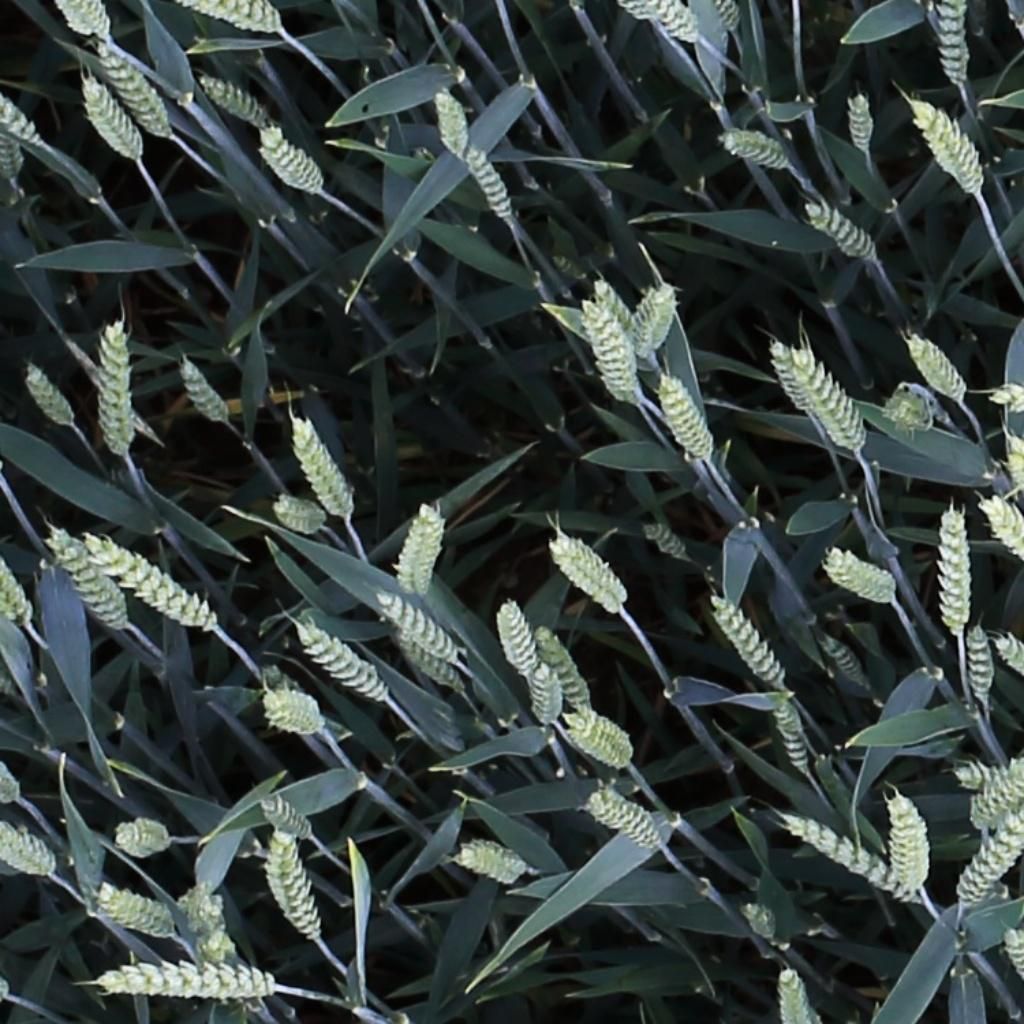0-0: (769, 806, 903, 895), (101, 525, 228, 618), (92, 950, 282, 1006), (90, 32, 178, 139), (45, 524, 131, 632), (708, 589, 793, 694), (259, 827, 328, 942), (296, 621, 390, 703), (288, 410, 356, 522), (549, 520, 629, 614), (803, 349, 870, 458), (910, 95, 985, 192), (869, 783, 931, 895), (580, 296, 640, 405), (77, 69, 146, 163), (92, 319, 139, 455), (535, 621, 598, 716), (378, 592, 462, 663), (929, 506, 978, 627), (967, 818, 1024, 922), (818, 542, 899, 612), (659, 368, 718, 464), (391, 498, 443, 600), (462, 137, 520, 223), (258, 121, 326, 193), (906, 330, 970, 404), (806, 199, 882, 260), (19, 357, 79, 431), (176, 352, 234, 428), (395, 636, 468, 696), (591, 791, 663, 851), (0, 484, 31, 623), (768, 334, 817, 419), (772, 689, 817, 780), (0, 800, 53, 877), (498, 595, 543, 685), (197, 70, 270, 125), (253, 679, 323, 734), (594, 270, 648, 341), (89, 885, 167, 934), (977, 491, 1024, 570), (100, 809, 174, 859), (0, 57, 42, 144), (444, 838, 527, 882), (566, 714, 633, 768), (971, 764, 1024, 831), (821, 632, 876, 696), (637, 279, 679, 359), (432, 81, 472, 162), (178, 877, 223, 948), (987, 410, 1024, 494), (741, 898, 797, 953), (884, 377, 935, 436), (185, 0, 281, 31), (949, 754, 1024, 792), (653, 2, 715, 47), (966, 619, 995, 711), (720, 131, 794, 165), (270, 491, 327, 534), (942, 1, 969, 91), (985, 371, 1024, 429), (260, 800, 314, 841), (779, 971, 820, 1024), (533, 658, 561, 734), (849, 84, 877, 157), (644, 521, 692, 561), (60, 1, 116, 33), (998, 921, 1024, 985), (619, 0, 676, 29), (0, 111, 21, 187), (991, 633, 1024, 681), (714, 0, 748, 39), (0, 761, 20, 802)
